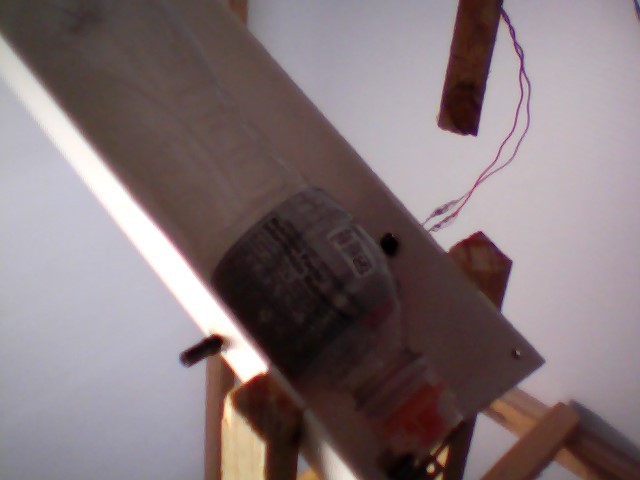plastico: (28, 1, 475, 463)
